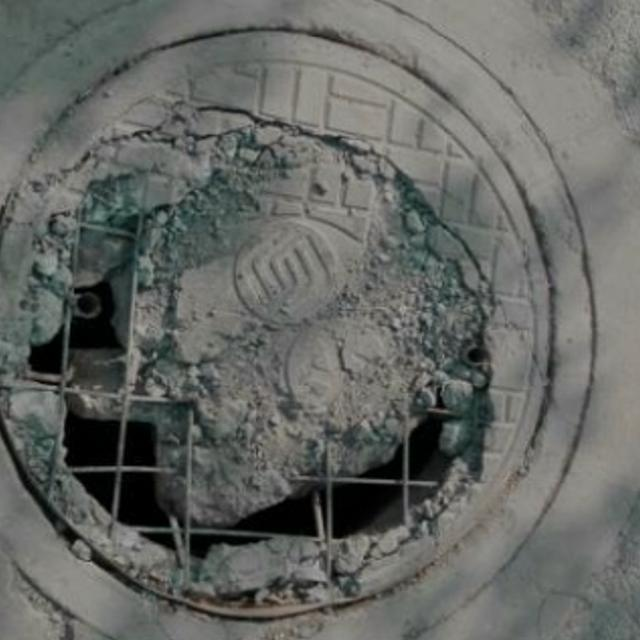broke: (0, 0, 594, 640)
